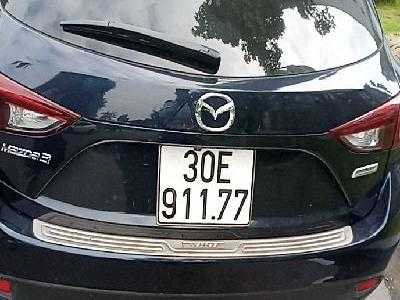car: (157, 142, 254, 230)
